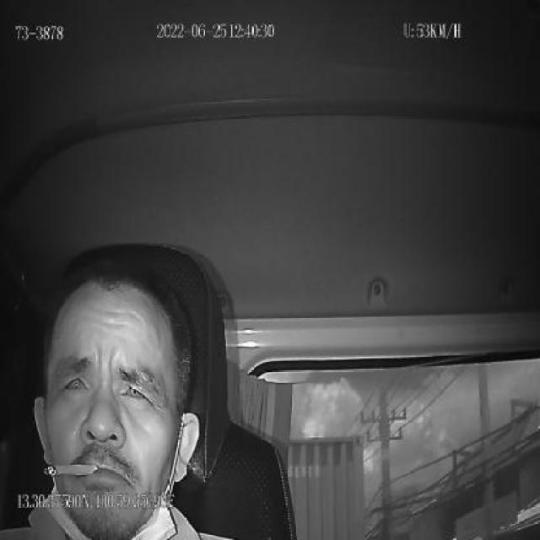smoking: (43, 462, 99, 479)
